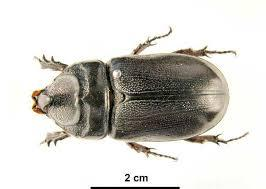insect: (29, 25, 254, 163)
